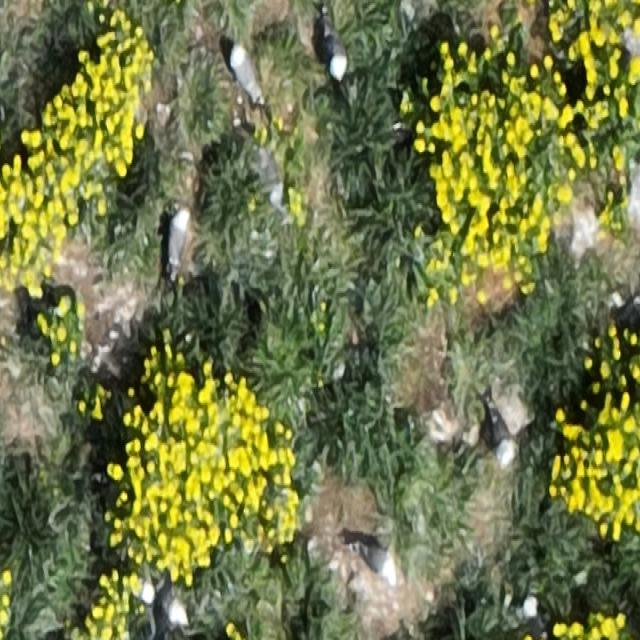F: (147, 573, 190, 637)
umineko: (489, 402, 517, 469), (358, 544, 402, 584), (232, 51, 259, 98), (166, 215, 186, 268), (325, 32, 345, 78)
